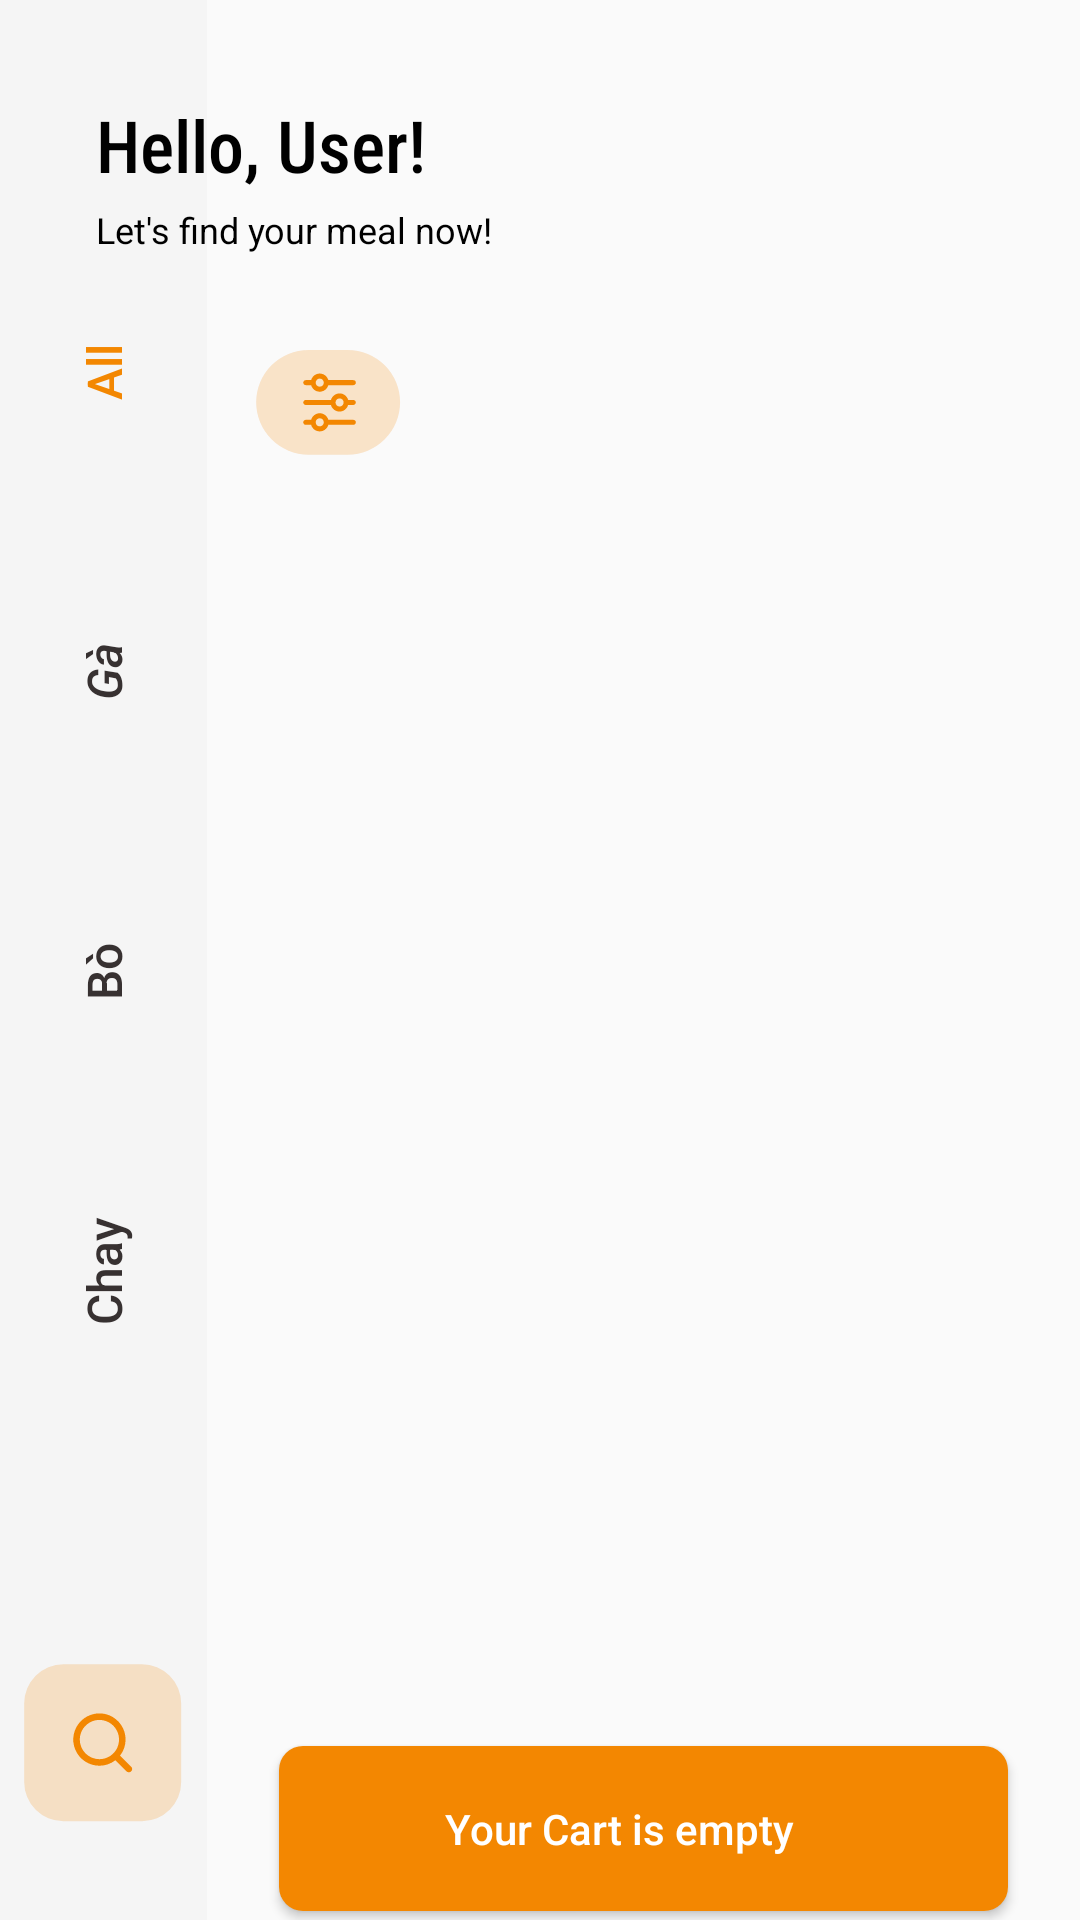

Where to tap for icons on this 1080 × 1920 app screen, as [x,y]:
filter: [328,402]
search: [102,1742]
